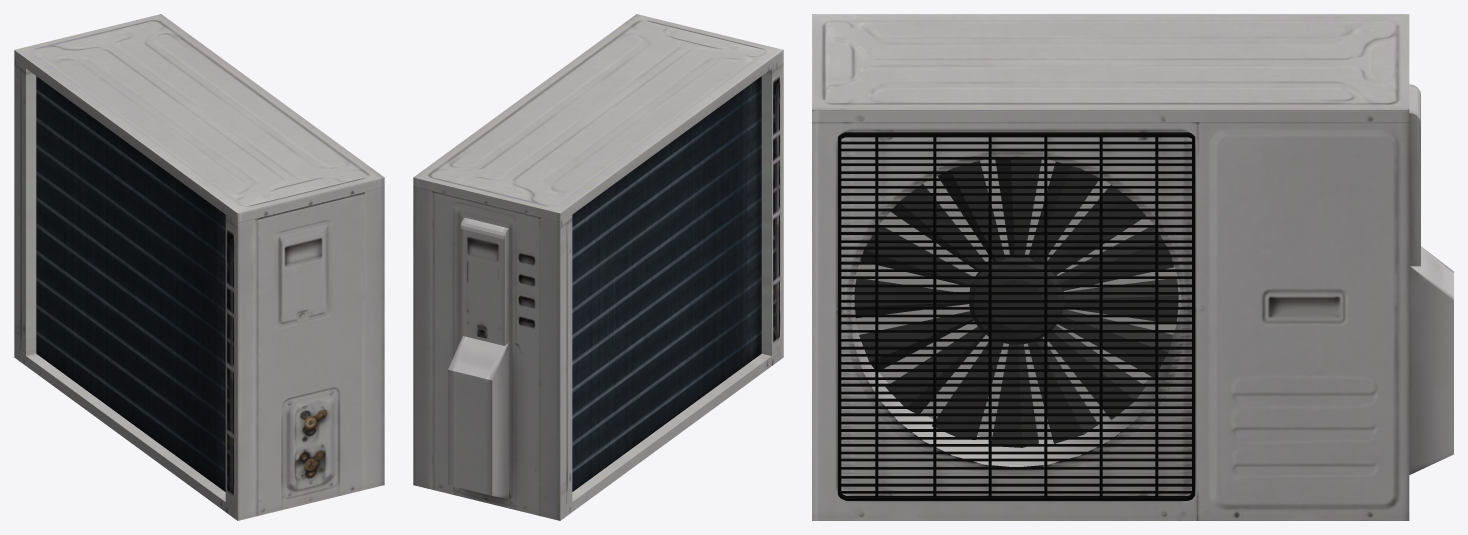
The picture shows the model from 3 angles, left to right: view 1: azimuth 30°, elevation 25°; view 2: azimuth 150°, elevation 25°; view 3: azimuth 270°, elevation 25°; orthographic projection. The views are drawn at different scales.
Visible parts, largest first — view 1: Base; view 2: Base; view 3: Base, Fan.
Part boxes in pixels (x1,y1,x2,y2): Base: (14, 14, 384, 520); Base: (413, 14, 783, 520); Base: (812, 14, 1453, 520); Fan: (854, 156, 1178, 447).
Size of the model in its own units: 37.75 by 73.55 by 104.
